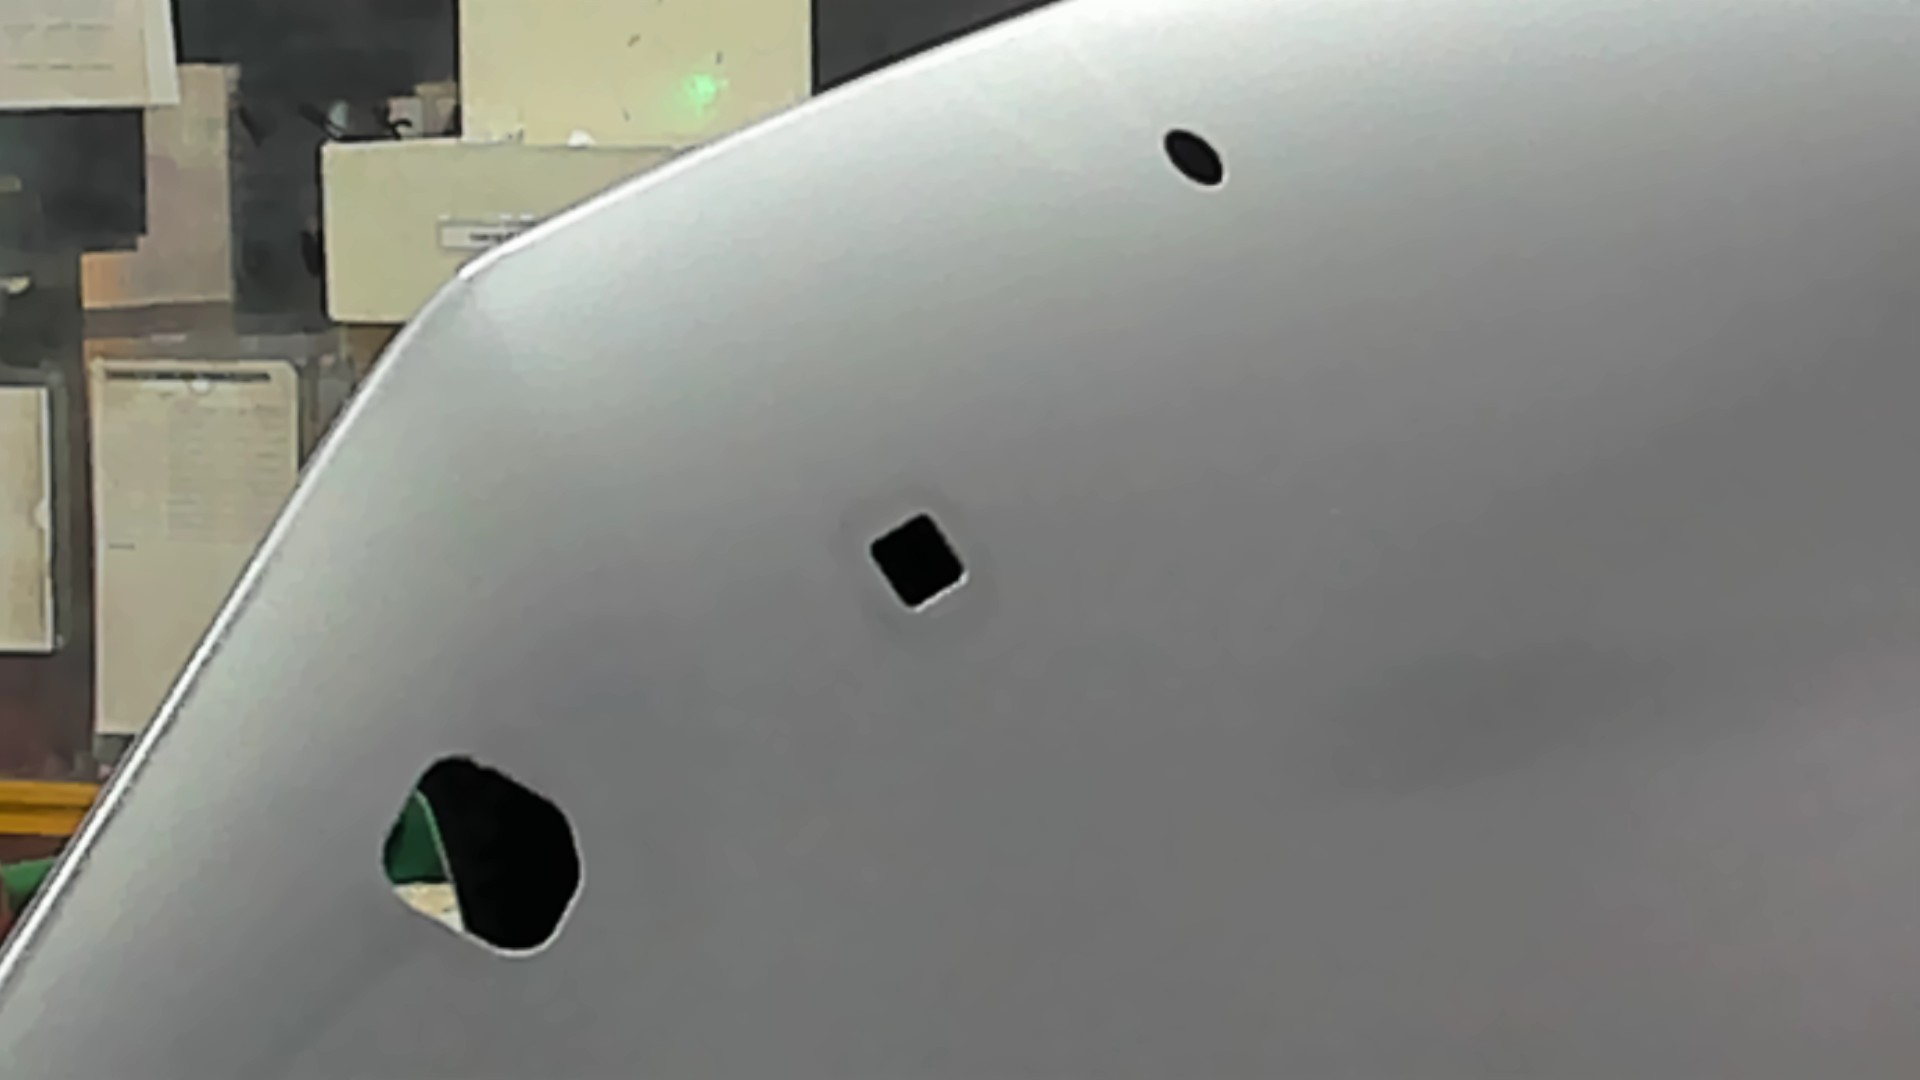chico: (1150, 123, 1244, 200)
grande: (363, 738, 601, 965)
mediano: (848, 497, 996, 628)
